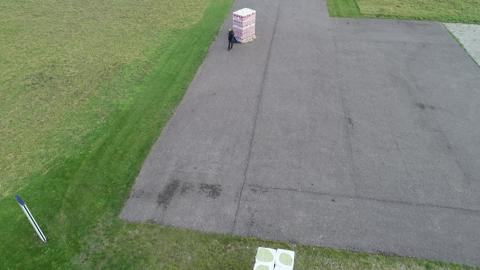RockwoolPallet: (232, 6, 256, 41)
